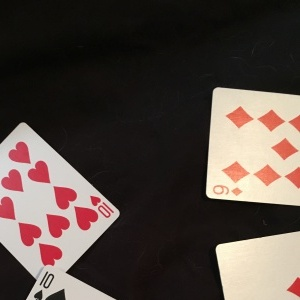card: (205, 85, 299, 208)
